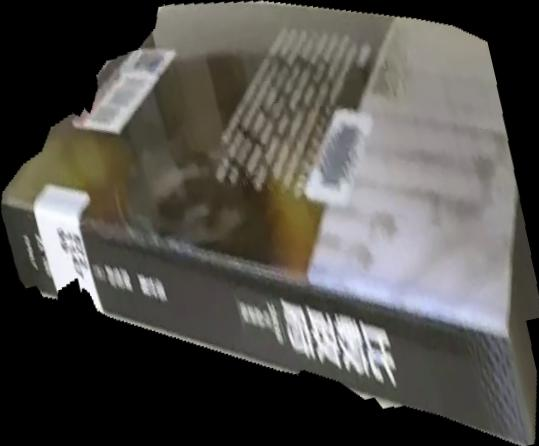flat: (1, 1, 539, 446)
